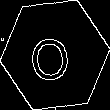O_N: (33, 27, 77, 83)
